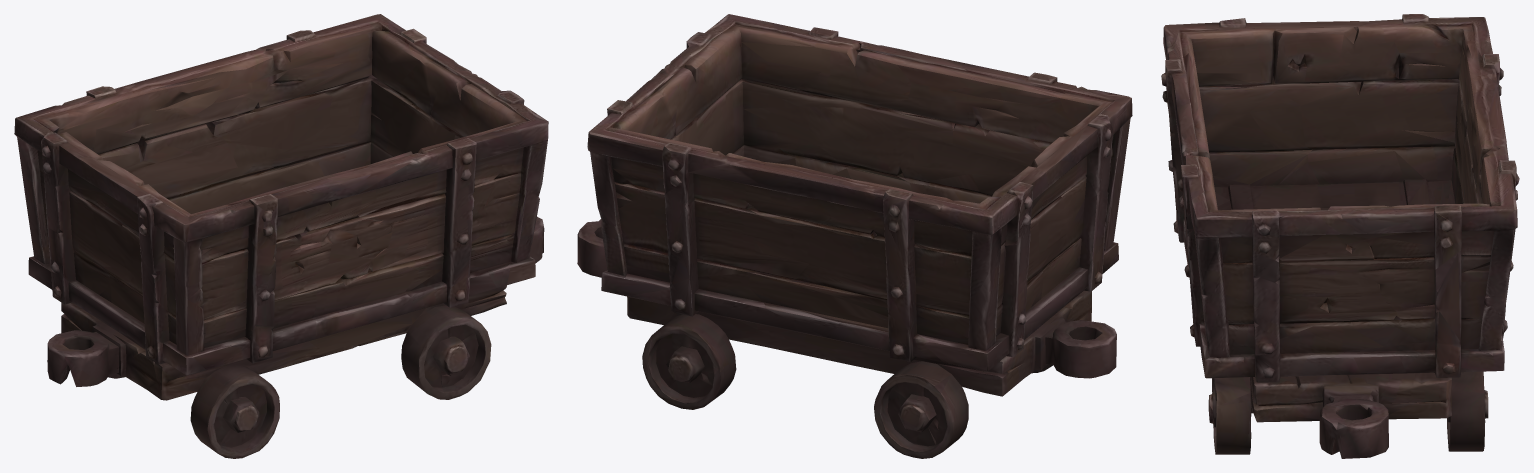
The model's file is mine_cart_wood.glb.
3 views of the same model, side by side, from view 1: azimuth 30°, elevation 25°; view 2: azimuth 150°, elevation 25°; view 3: azimuth 270°, elevation 25° (orthographic). The views are drawn at different scales.
Parts seen in each view (by area): view 1: body, wheel_2, wheel_4; view 2: body, wheel_1, wheel_3; view 3: body, wheel_4.
Boxes of the visible parts, x1,y1,x2,y2 form: body: (14,14,548,430); wheel_2: (190,363,279,458); wheel_4: (401,303,491,399); body: (577,14,1132,447); wheel_1: (874,362,968,458); wheel_3: (644,327,736,409); body: (1161,14,1519,458); wheel_4: (1209,377,1252,454).
Bounding box in the file's own units: 2.37 × 1.2 × 1.4.
2 materials, 2 textured.
